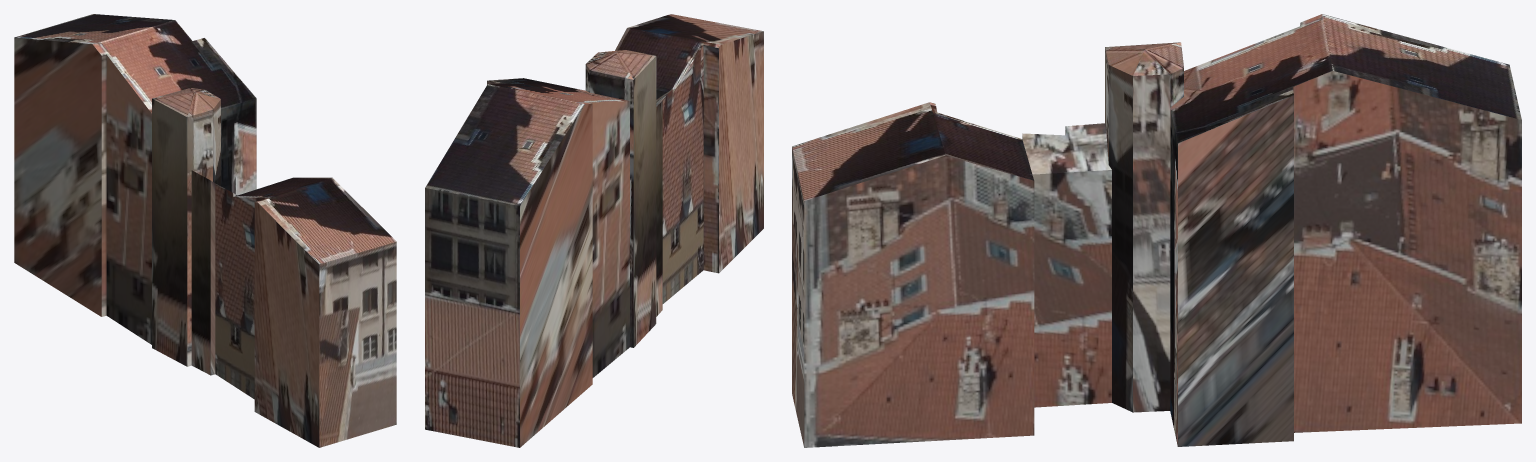
3 views of the same model, side by side, from view 1: azimuth 30°, elevation 25°; view 2: azimuth 150°, elevation 25°; view 3: azimuth 270°, elevation 25° (orthographic). The views are drawn at different scales.
Parts seen in each view (by area): view 1: Z_UP; view 2: Z_UP; view 3: Z_UP.
Boxes of the visible parts, bbox=[...] form: Z_UP: bbox=[14, 14, 396, 447]; Z_UP: bbox=[425, 14, 763, 447]; Z_UP: bbox=[792, 14, 1521, 447].
Size of the model in its own units: 9.95 by 21.01 by 38.56.
2 materials, 1 textured.
